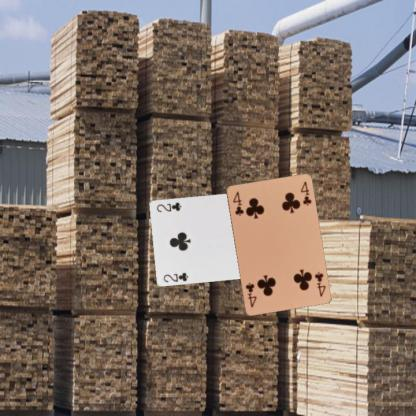2c: (161, 270, 190, 283)
4c: (312, 269, 327, 298), (230, 189, 245, 217)
